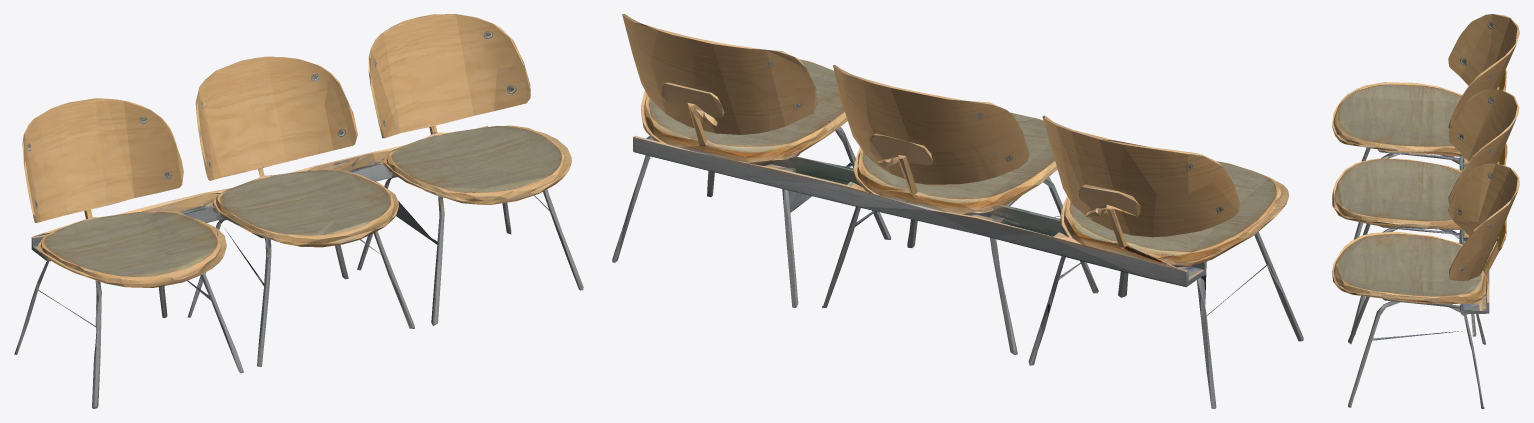
Rendered from waiting_bench.glb.
3 renders of one model, left to right at view 1: azimuth 30°, elevation 25°; view 2: azimuth 150°, elevation 25°; view 3: azimuth 270°, elevation 25°, orthographic. The views are drawn at different scales.
Size of the model in its own units: 1.9 by 0.7947 by 0.6951.
1 material, 1 textured.
